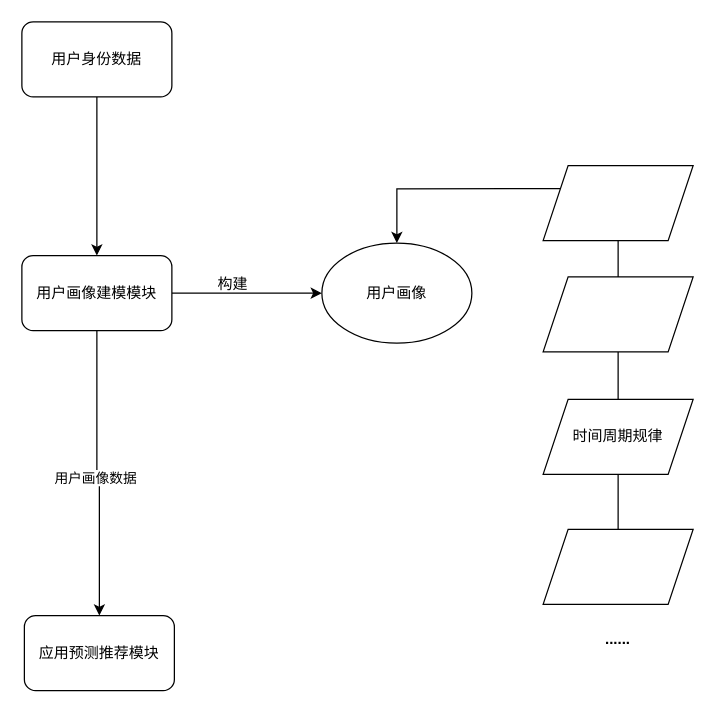
Image size: 715x713. Some labels were removed from this diagram. The centre of each missing label's shape, as x and y in pixels:
"场景适应特征" goes at pixel 617 566.
"应用使用偏好" goes at pixel 617 314.
"行为模式" goes at pixel 617 202.
